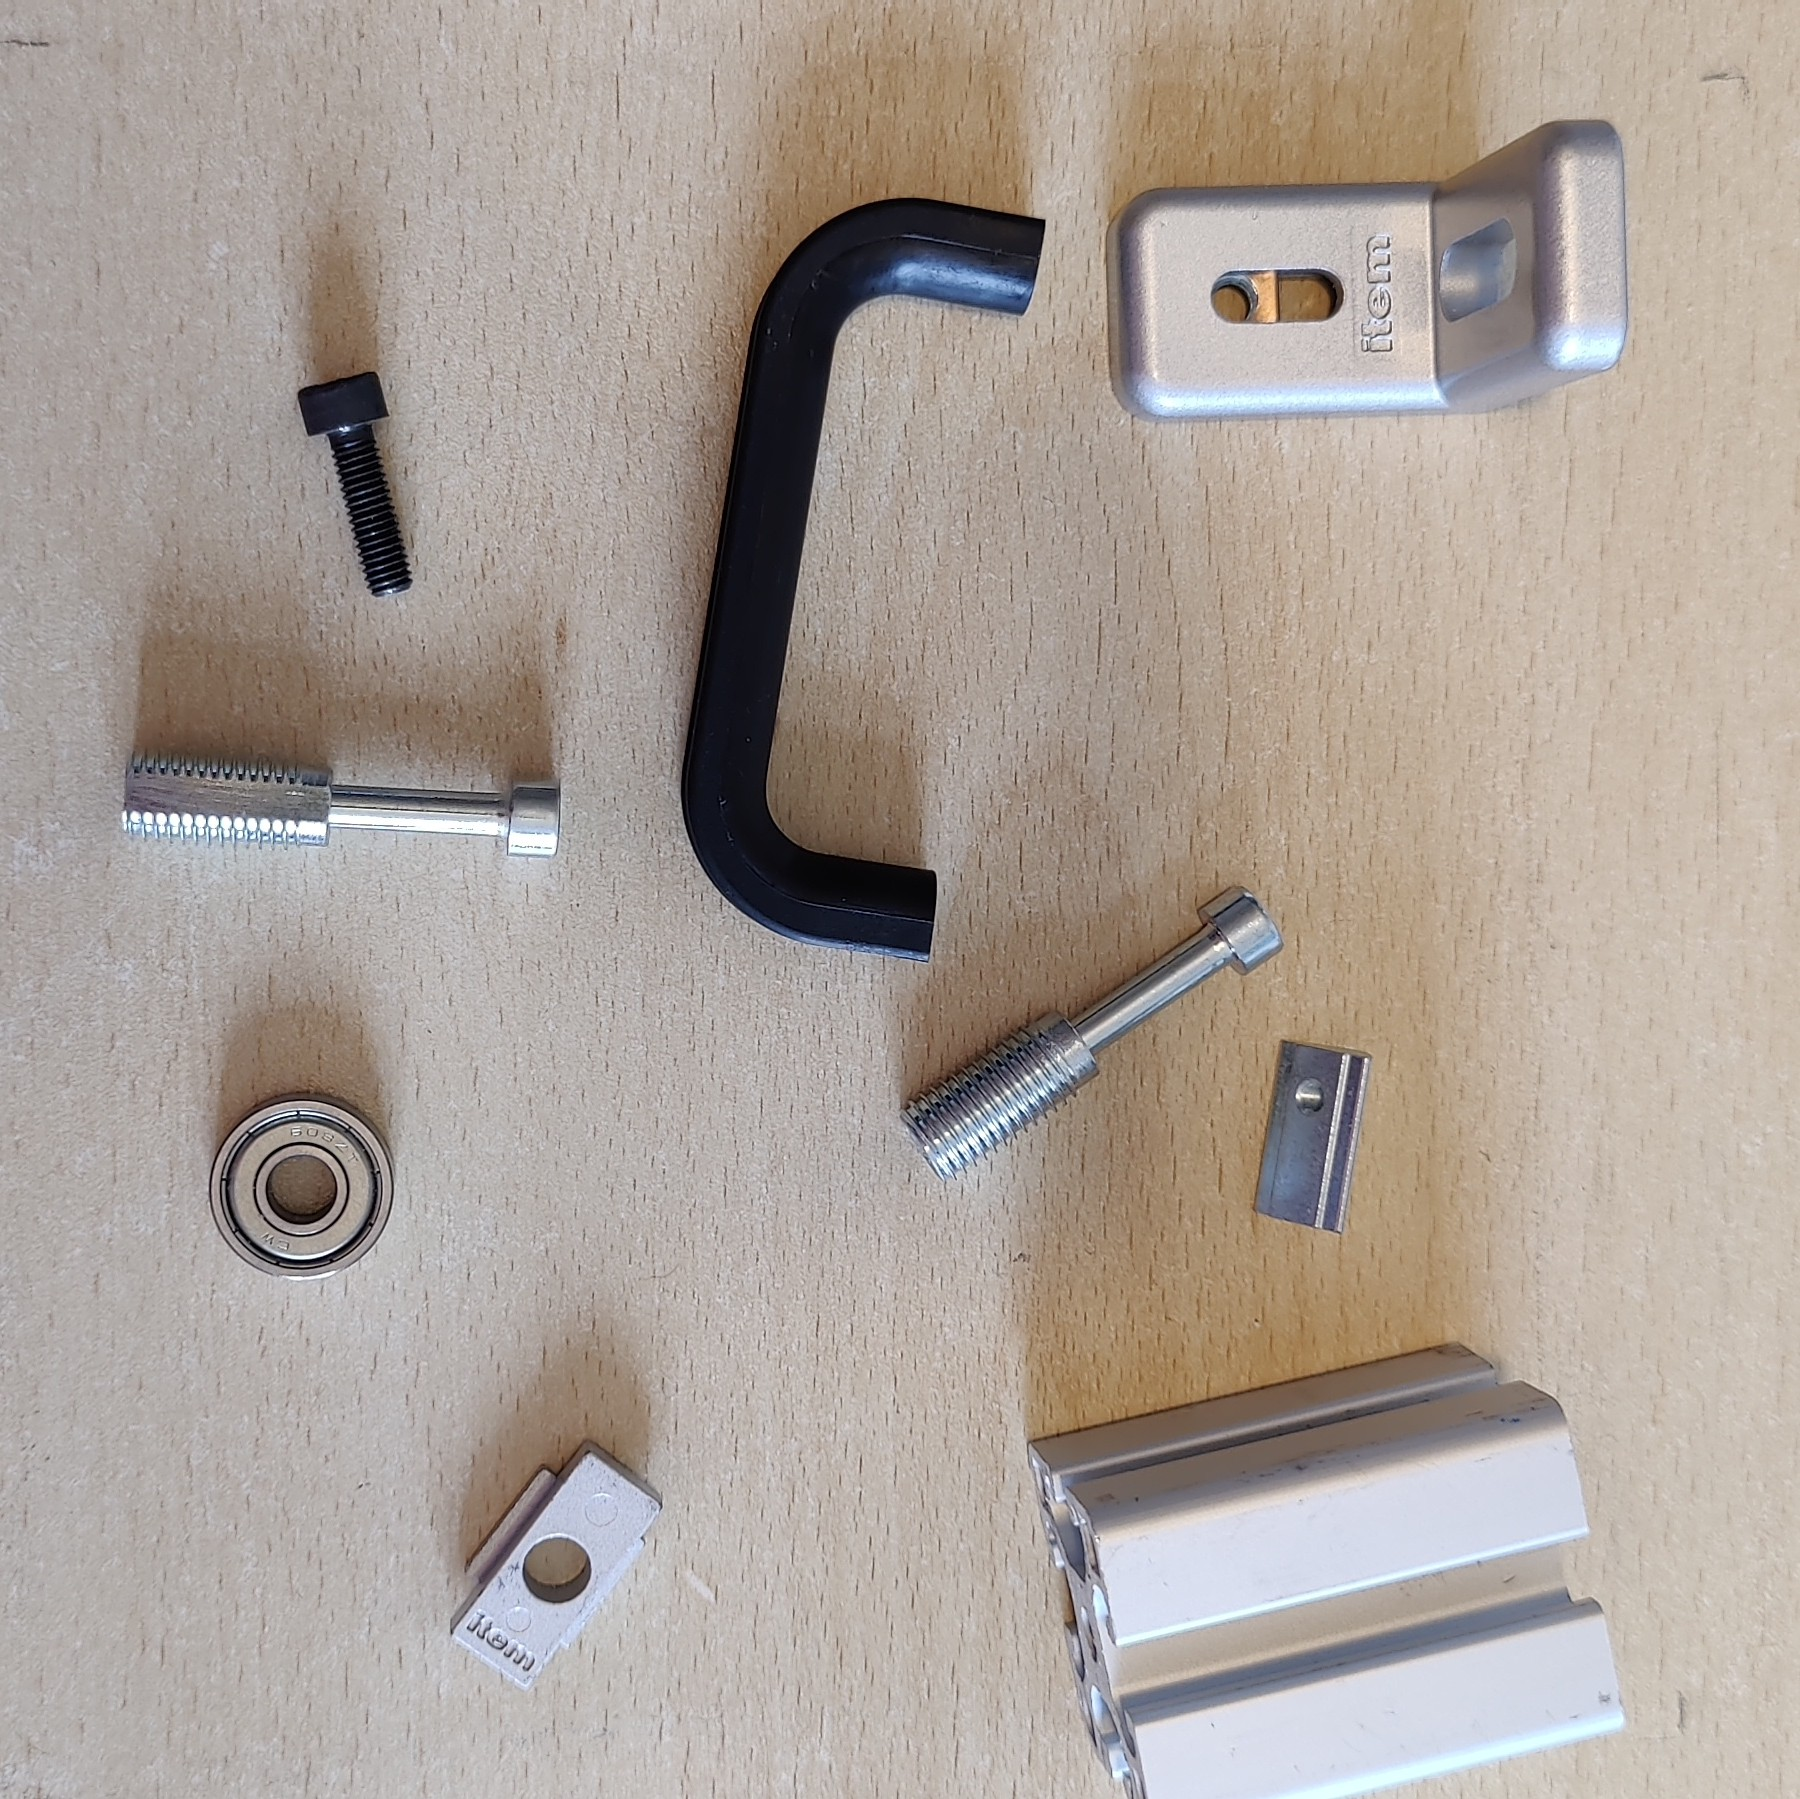Aluminium Extension: (1024, 1341, 1629, 1799)
Ball Bearing: (204, 1087, 397, 1283)
Multiwinkel: (1102, 117, 1634, 427)
Pull Handle: (678, 194, 1047, 965)
Shoulder Socket Head Cap Screw: (896, 876, 1286, 1183), (117, 741, 567, 863)
Socket Head Cap Screw: (293, 366, 417, 600)
T Nut Square: (448, 1437, 667, 1694)
T Spring Nut: (1252, 1035, 1375, 1241)
